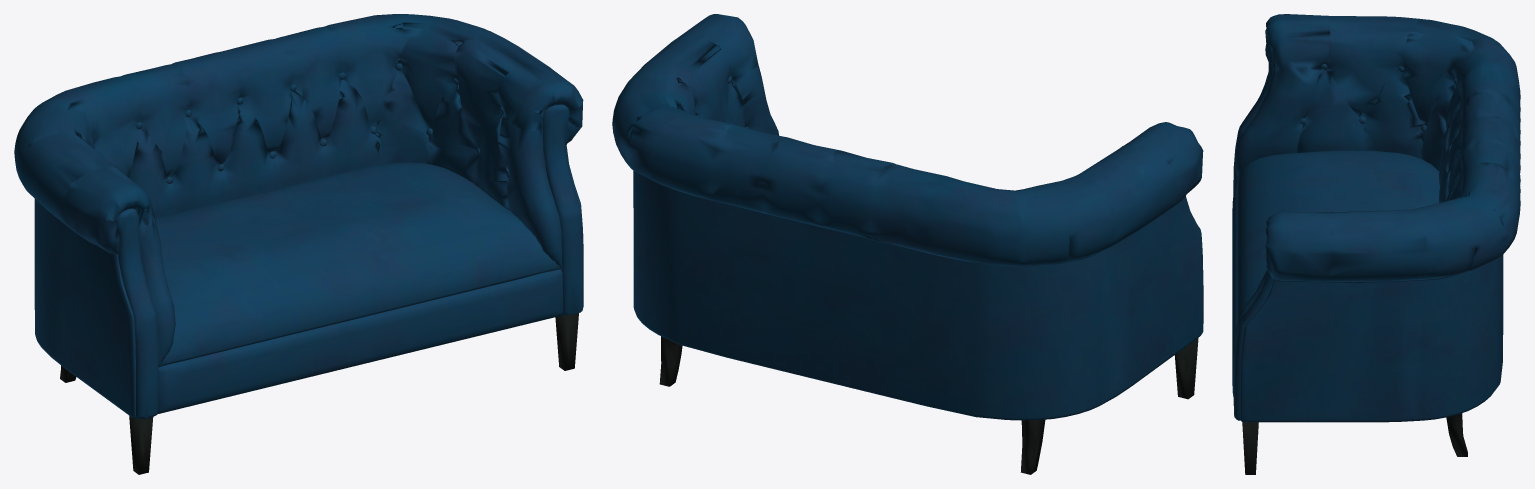
File: B07MJL5SZB.glb
3 views of the same model, side by side, from view 1: azimuth 30°, elevation 25°; view 2: azimuth 150°, elevation 25°; view 3: azimuth 270°, elevation 25° (orthographic). The views are drawn at different scales.
Visible parts, largest first — view 1: RootNode; view 2: RootNode; view 3: RootNode.
Boxes of the visible parts, x1,y1,x2,y2 form: RootNode: (14, 14, 583, 474); RootNode: (612, 14, 1203, 474); RootNode: (1232, 14, 1520, 474).
Size of the model in its own units: 1.56 by 0.8263 by 0.8343.
1 material, 1 textured.
